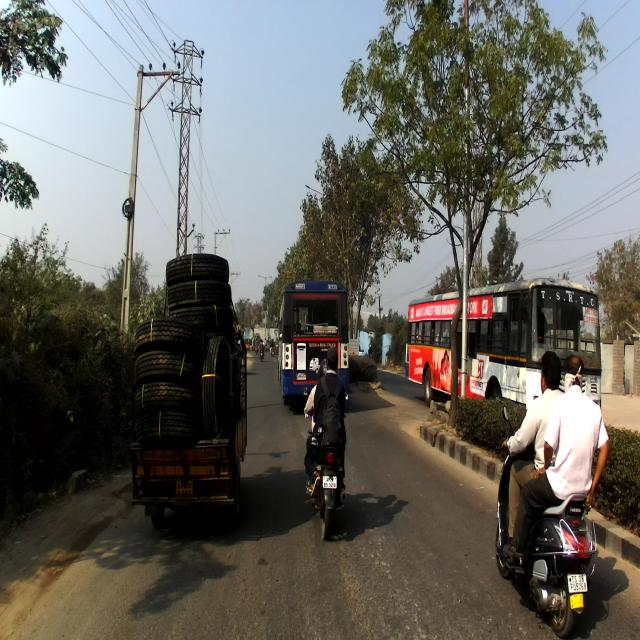auto ahead at: (135, 251, 249, 539)
motorcycle ahead at: (496, 501, 610, 628), (304, 434, 361, 543)
